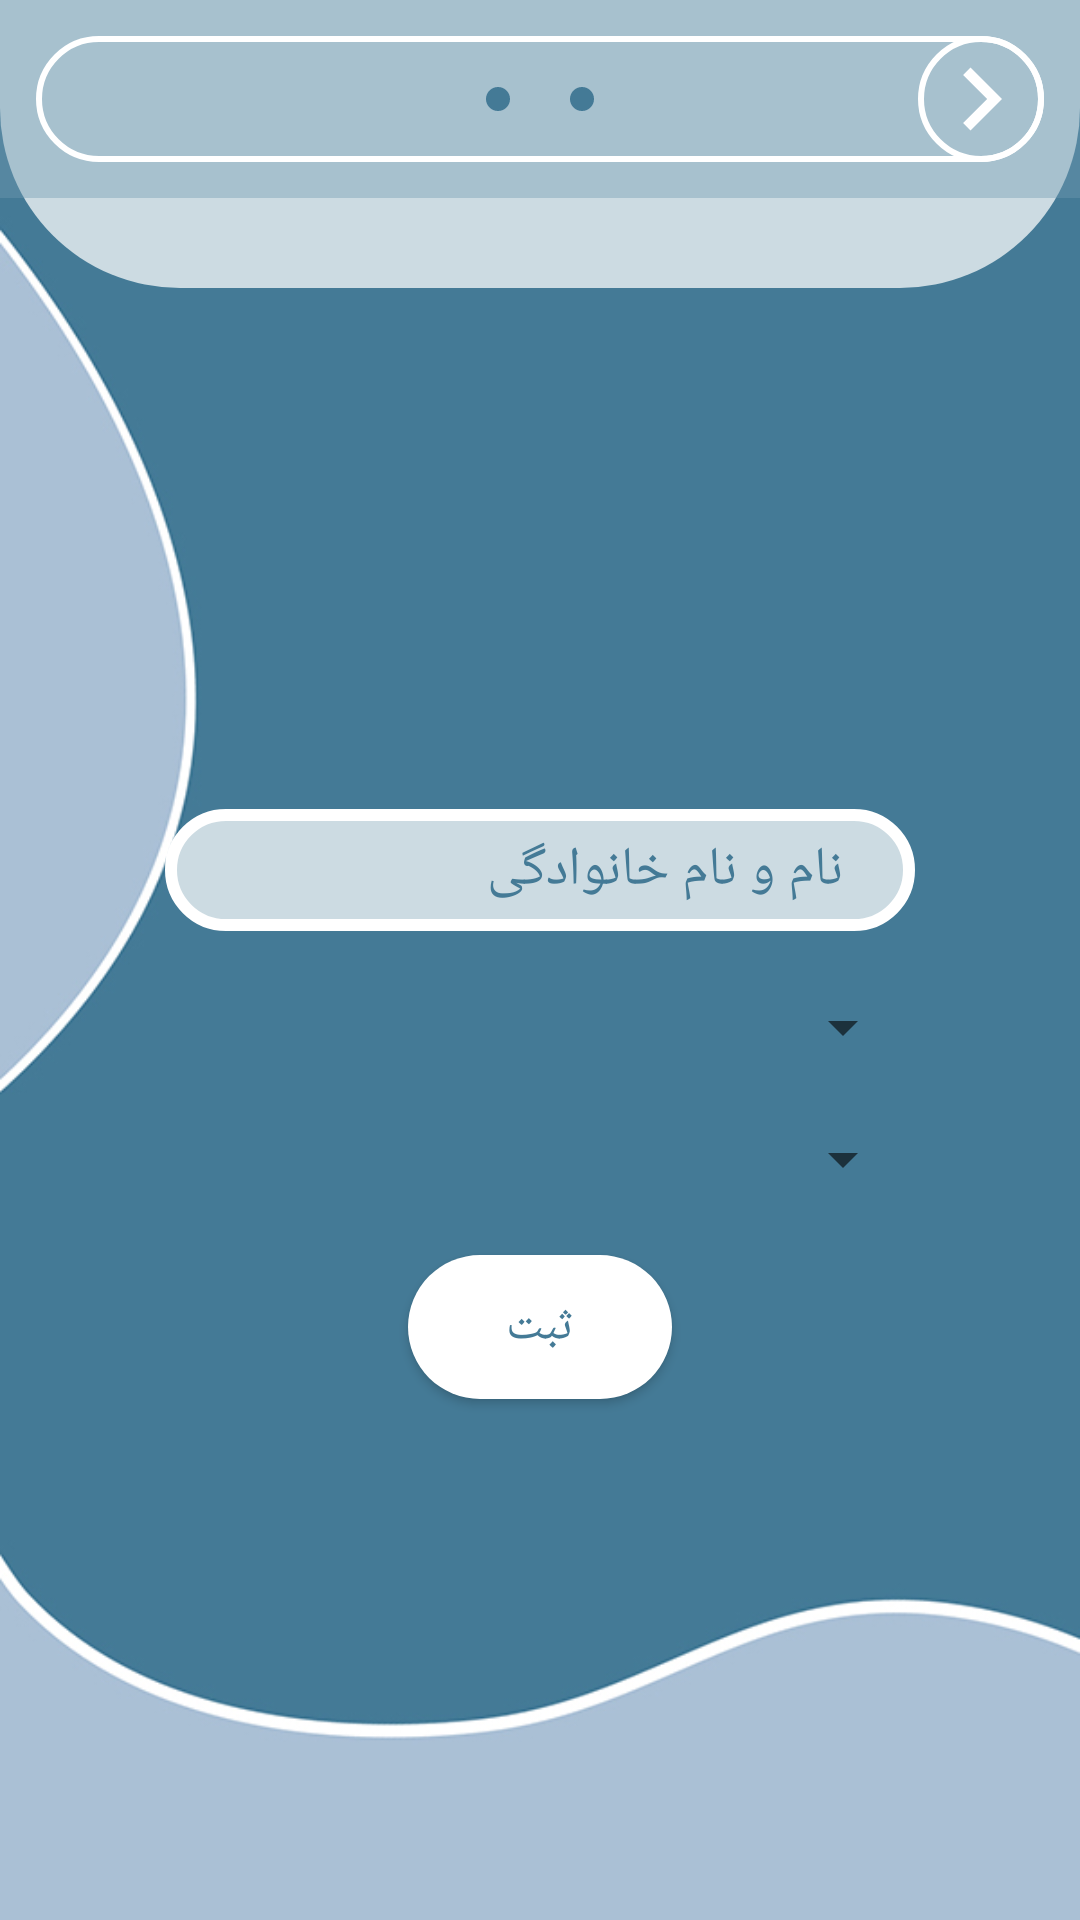

Named icons in this screenshot (1080 x 1920) and their centers, point (x, y):
right: point (981, 99)
